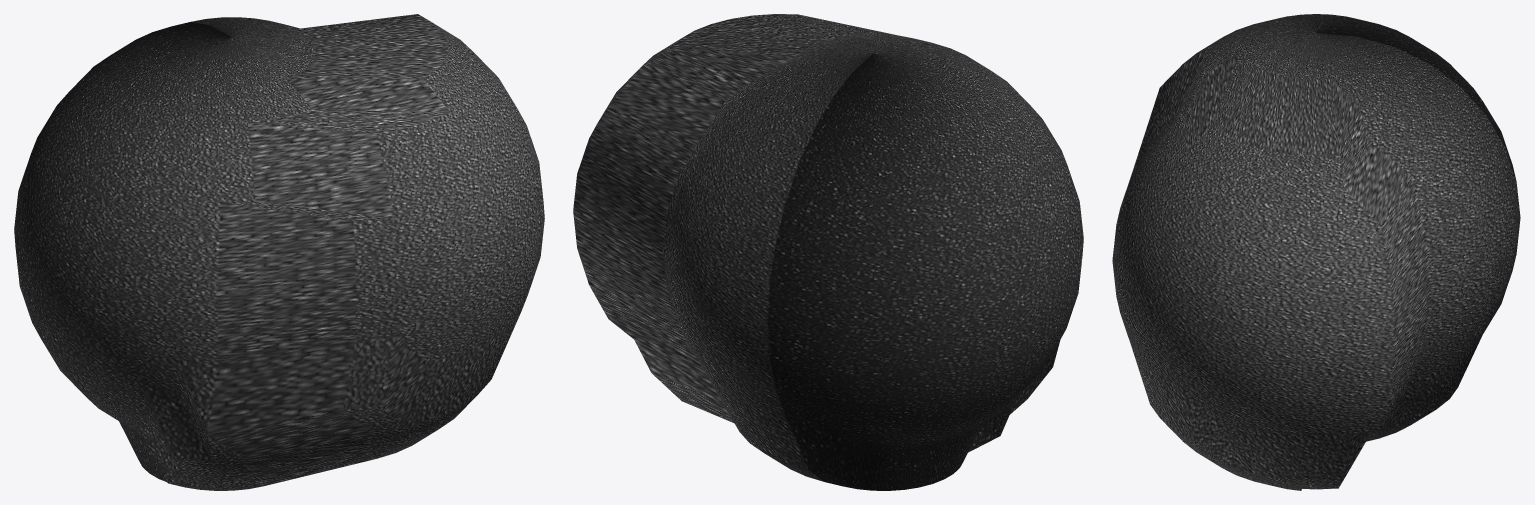
Rendered from meatballs1-3.FBX.
3 views of the same model, side by side, from view 1: azimuth 30°, elevation 25°; view 2: azimuth 150°, elevation 25°; view 3: azimuth 270°, elevation 25° (orthographic). The views are drawn at different scales.
Visible parts, largest first — view 1: Sphere004; view 2: Sphere004; view 3: Sphere004.
Boxes of the visible parts, box(x1,y1,x2,y2) form: Sphere004: box(14, 14, 544, 490); Sphere004: box(573, 14, 1083, 490); Sphere004: box(1112, 14, 1520, 490).
Bounding box in the file's own units: 3.88 × 3.38 × 3.11.
Materials: 1 (1 with a texture image).
